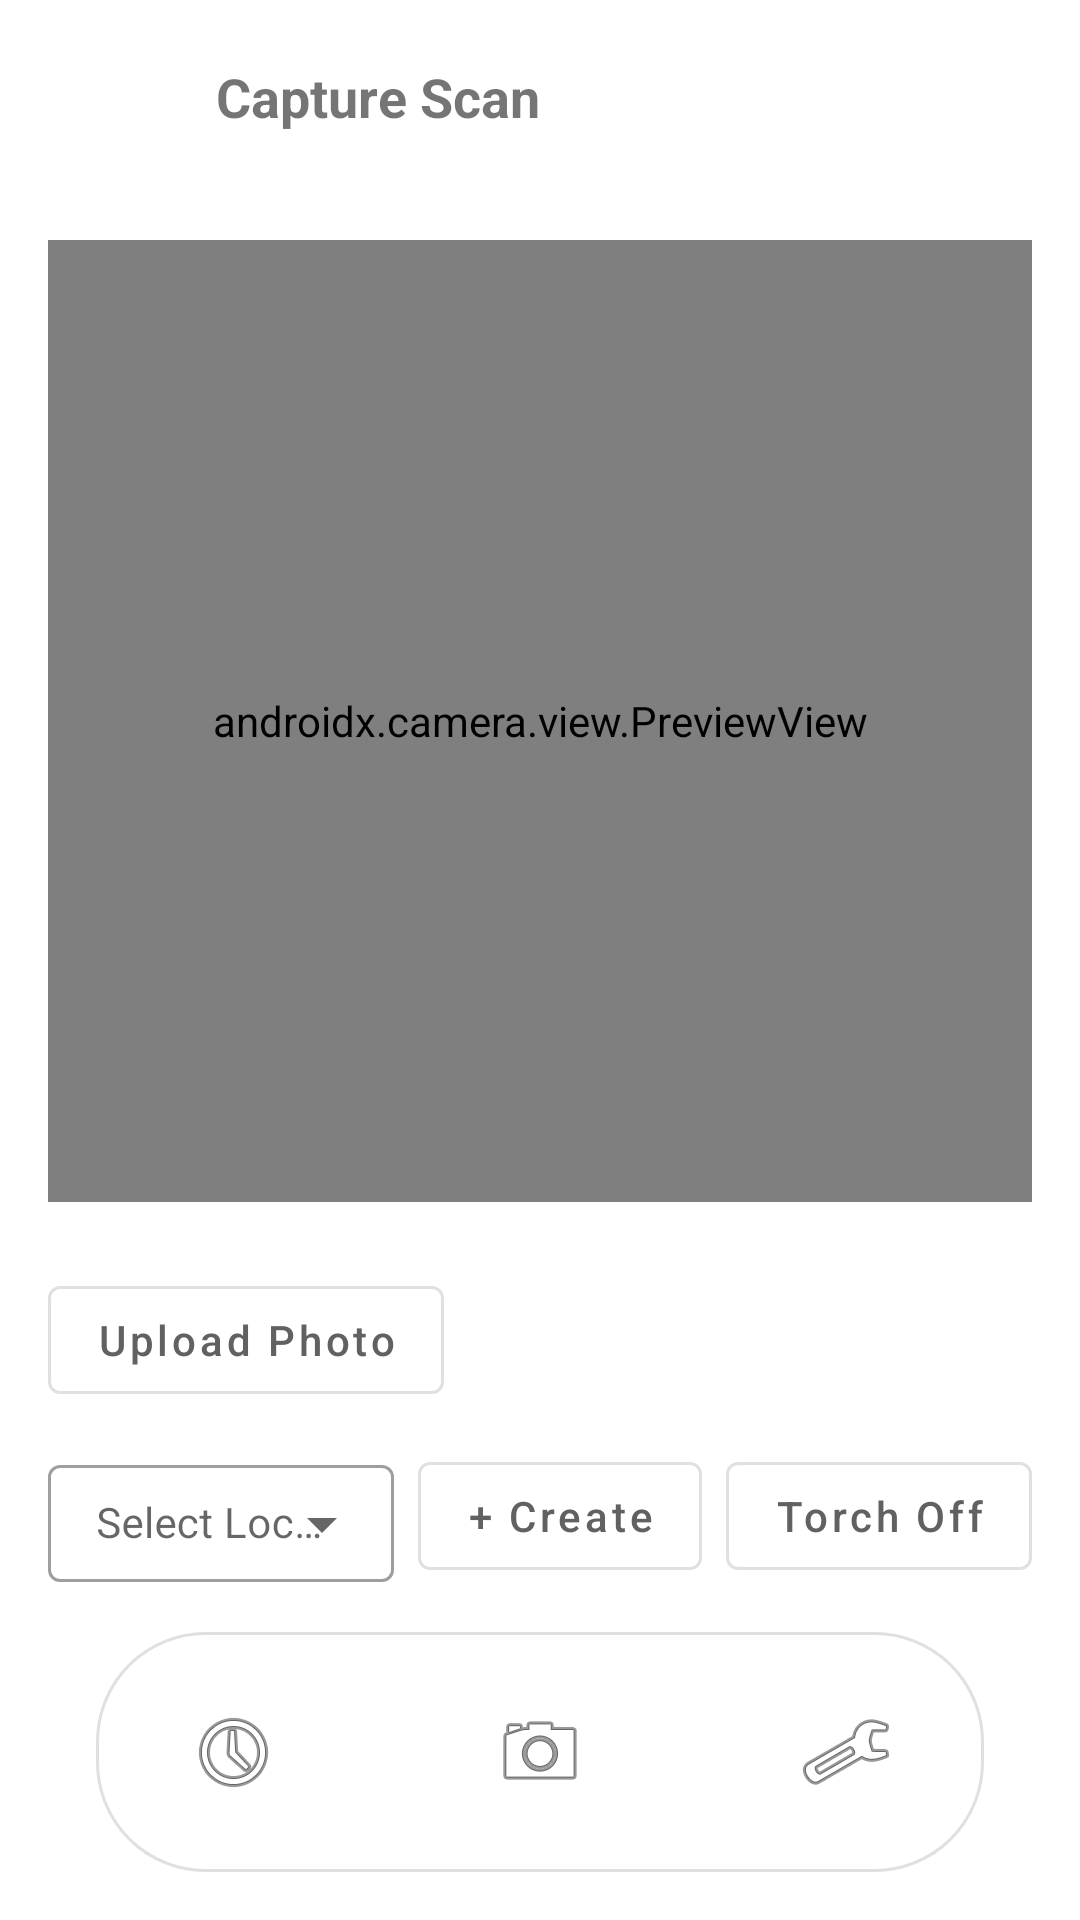

Where icons sit on this 1080px×1920px app screen, as (x1, y1, x2, y2):
Camera: (503, 1721, 577, 1780)
History: (199, 1718, 268, 1787)
Settings: (803, 1719, 889, 1785)
